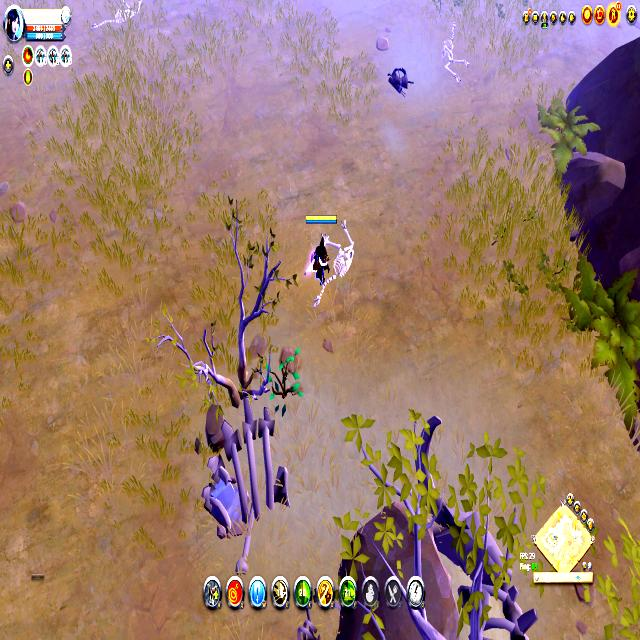red: (304, 209, 338, 285)
